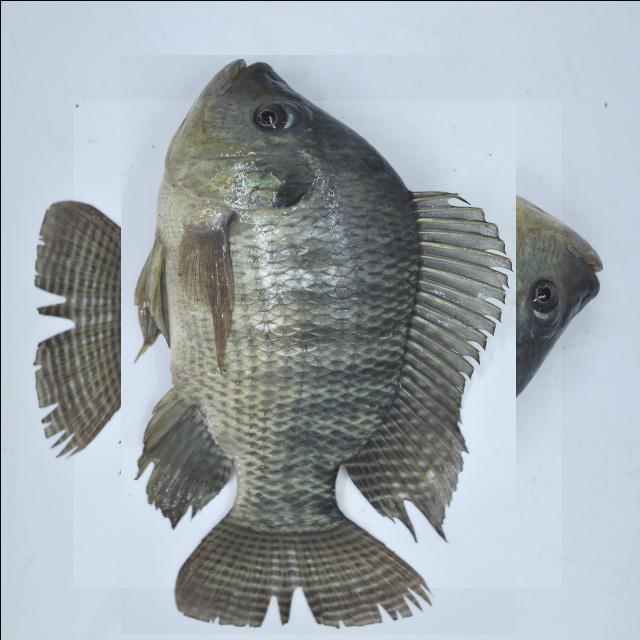Healthy Fish: (73, 100, 561, 587)
